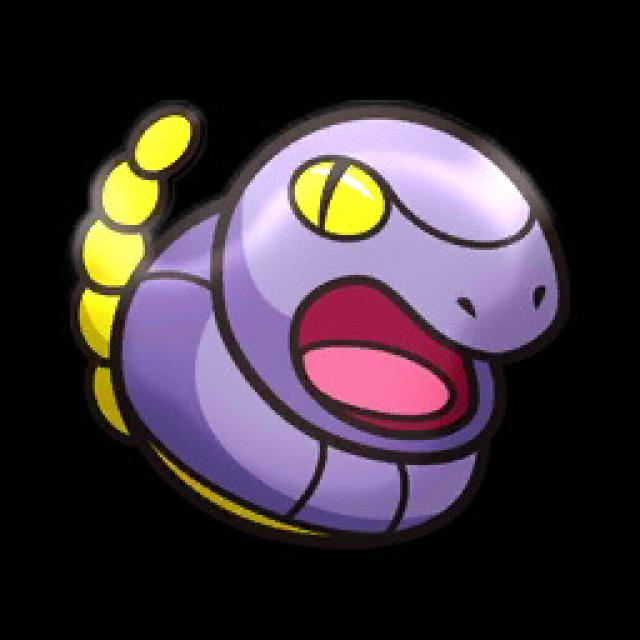Ekans: (59, 92, 570, 551)
